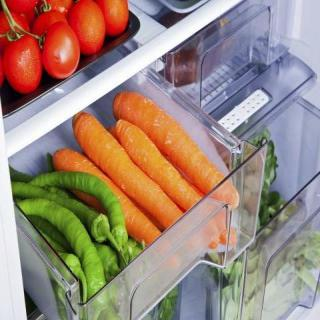carrot: (73, 108, 187, 259), (110, 90, 244, 206), (115, 118, 222, 242)
